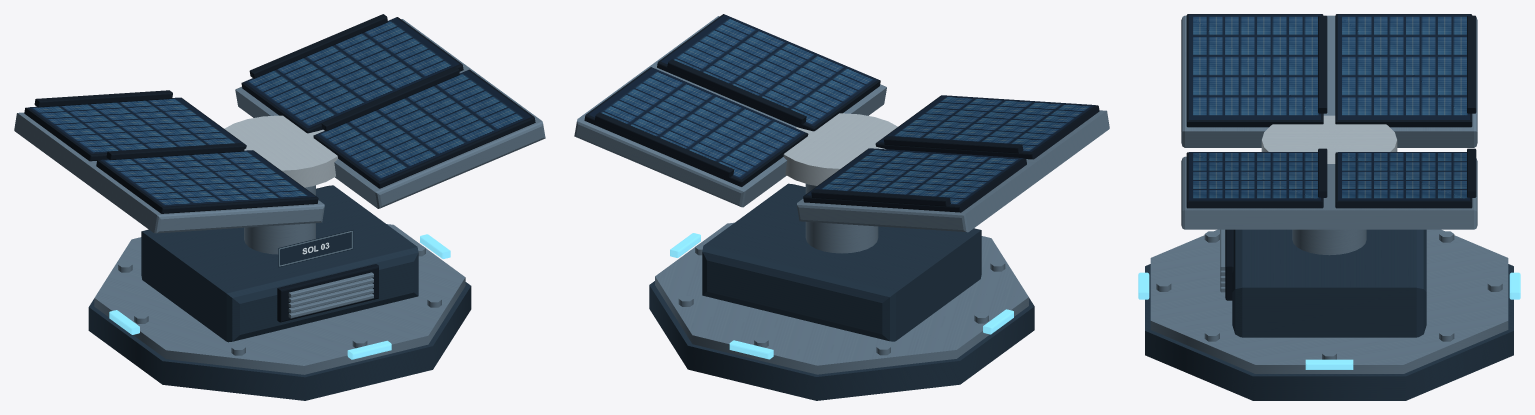
File: solar.glb
3 renders of one model, left to right at view 1: azimuth 30°, elevation 25°; view 2: azimuth 150°, elevation 25°; view 3: azimuth 270°, elevation 25°, orthographic. The views are drawn at different scales.
Visible parts, largest first — view 1: Photovoltaic cells, Brushed titanium (×2), Graphite composite, Carbon machinery (×2), Ceramic titanium armor, Identification SOL 03, Status light; view 2: Graphite composite, Photovoltaic cells, Brushed titanium (×2), Carbon machinery, Ceramic titanium armor, Status light; view 3: Photovoltaic cells, Brushed titanium (×2), Graphite composite, Carbon machinery (×2), Ceramic titanium armor, Status light.
Boxes of the visible parts, x1,y1,x2,y2 form: Photovoltaic cells: (28, 17, 531, 206); Brushed titanium (×2): (14, 19, 545, 374); Graphite composite: (88, 185, 471, 400); Carbon machinery (×2): (24, 14, 535, 322); Ceramic titanium armor: (224, 115, 337, 187); Identification SOL 03: (278, 230, 353, 267); Status light: (109, 234, 450, 359); Graphite composite: (649, 183, 1034, 400); Photovoltaic cells: (588, 14, 1095, 204); Brushed titanium (×2): (574, 16, 1109, 374); Carbon machinery: (584, 14, 1099, 212); Ceramic titanium armor: (783, 113, 897, 185); Status light: (670, 233, 1013, 359); Photovoltaic cells: (1189, 14, 1469, 200); Brushed titanium (×2): (1150, 15, 1508, 373); Graphite composite: (1145, 229, 1513, 400); Carbon machinery (×2): (1186, 14, 1476, 300); Ceramic titanium armor: (1261, 115, 1397, 163); Status light: (1138, 272, 1520, 369).
Bounding box in the file's own units: 2.76 × 1.43 × 2.26.
Materials: 7 (6 with a texture image).
